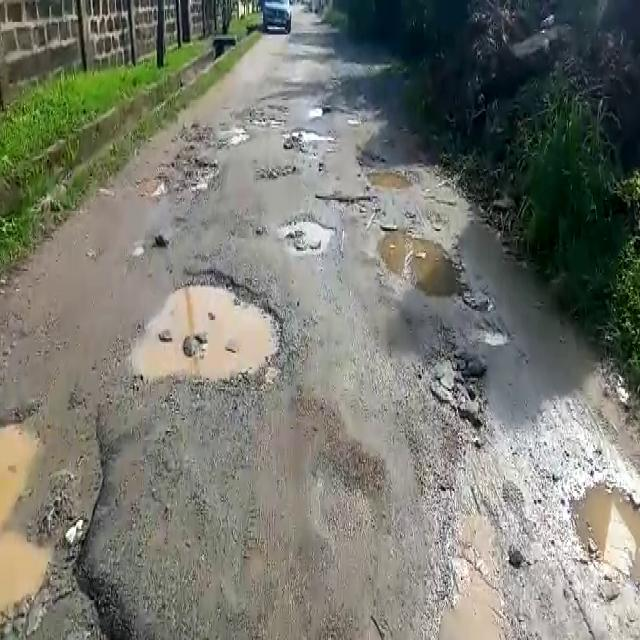Pothole: (0, 402, 126, 640), (126, 265, 294, 384), (571, 481, 637, 600), (374, 228, 470, 302), (417, 348, 488, 444), (137, 148, 220, 203), (280, 216, 334, 257), (320, 190, 380, 216), (362, 167, 418, 193), (282, 126, 335, 146), (256, 160, 306, 180)
